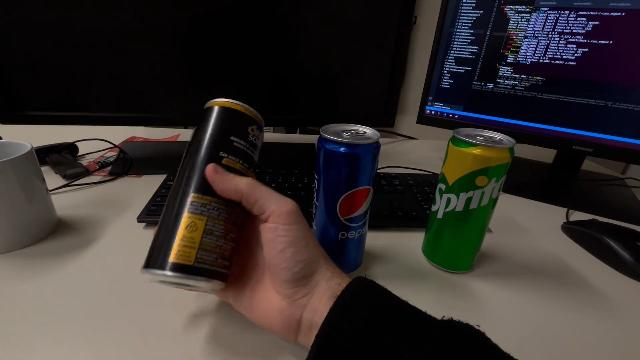OranSoda: (137, 96, 266, 296)
Pepsi: (418, 124, 518, 276), (307, 120, 383, 276)
